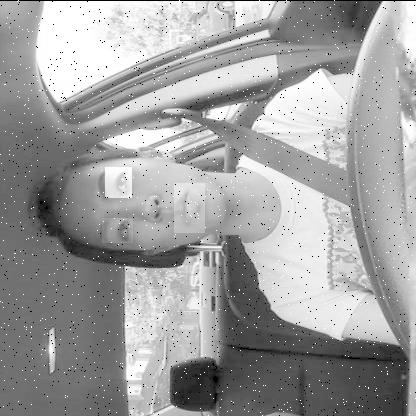seatbelt: (18, 126, 349, 270)
